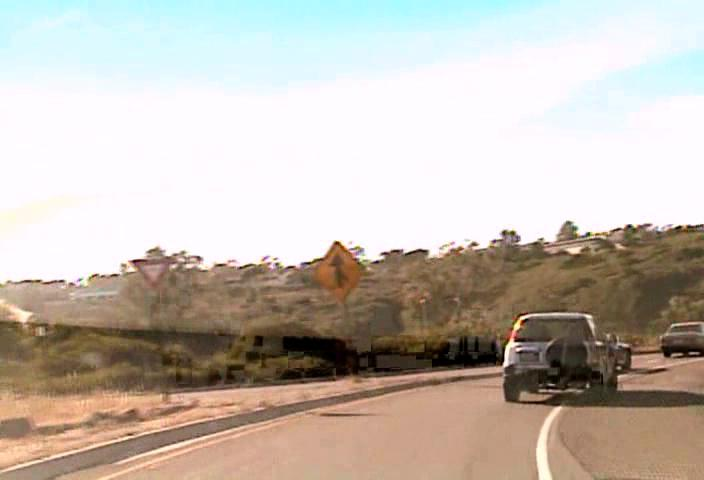yield: (129, 257, 171, 291)
